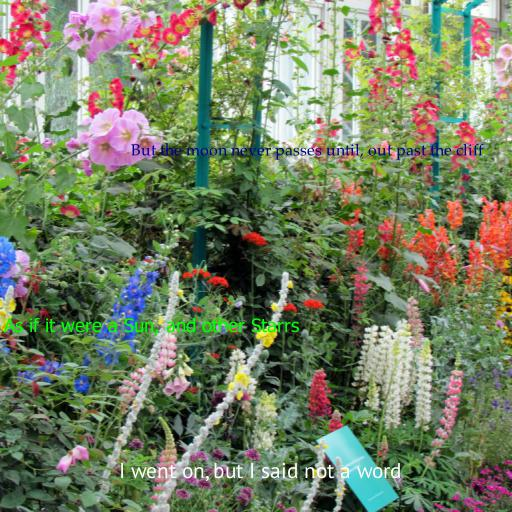PT Sans: (119, 462, 401, 482)
Palatino: (131, 142, 483, 160)
Tahoma: (3, 317, 299, 336)
